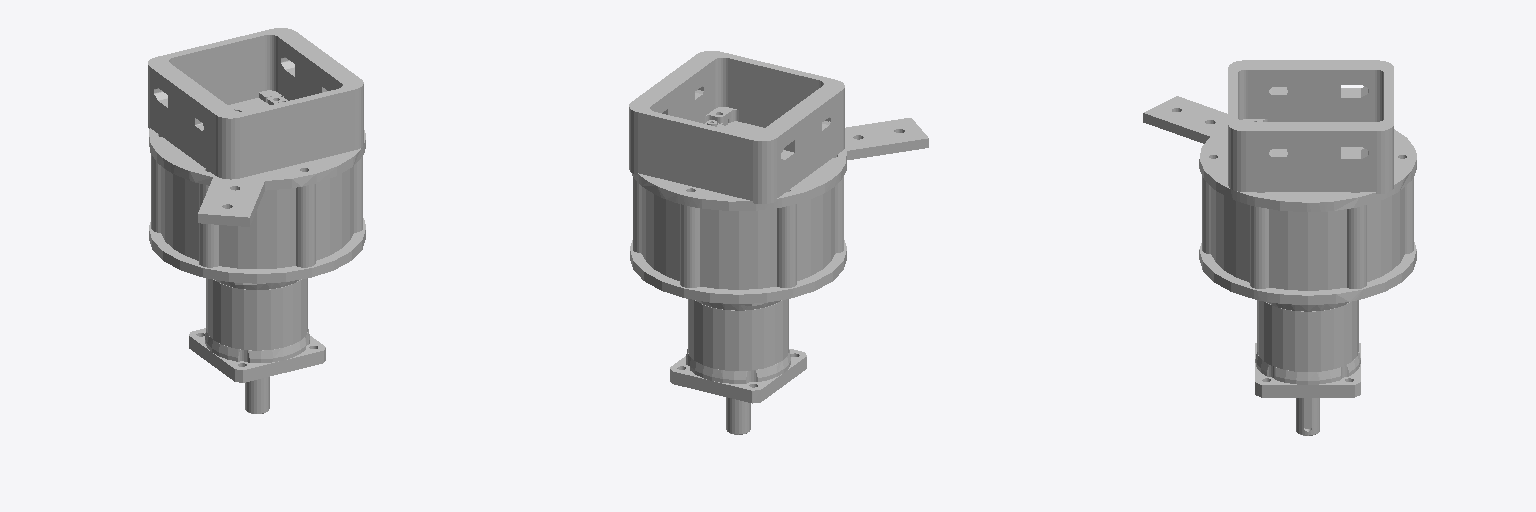
File: drivetrainfrontrightcomposite.obj
3 views of the same model, side by side, from view 1: azimuth 30°, elevation 25°; view 2: azimuth 150°, elevation 25°; view 3: azimuth 270°, elevation 25° (orthographic).
Visible parts, largest first — view 1: obj_[number redacted]; view 2: obj_[number redacted]; view 3: obj_[number redacted].
Part boxes in pixels (x1,y1,x2,y2): obj_[number redacted]: (148,28,365,413); obj_[number redacted]: (629,51,928,434); obj_[number redacted]: (1143,60,1416,435).
Bounding box in the file's own units: 0.1443 × 0.2108 × 0.156.